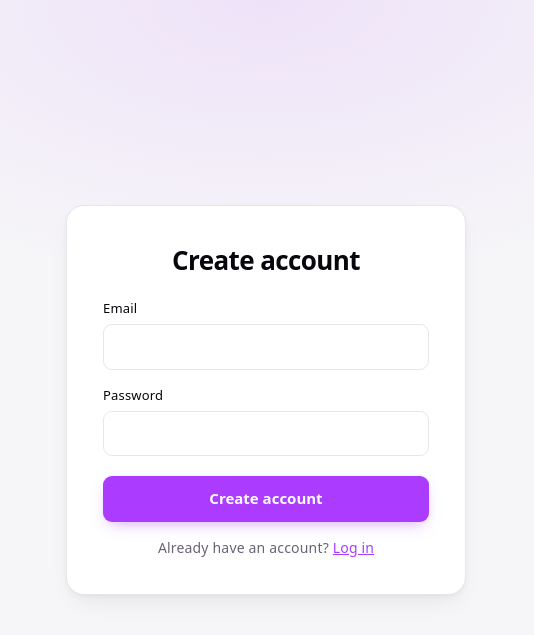
Test: Register › shows the server error and stays on the form
Type "new@user.io" into the field labelled "Email". click: x=266, y=347
box: [103,324,429,370]
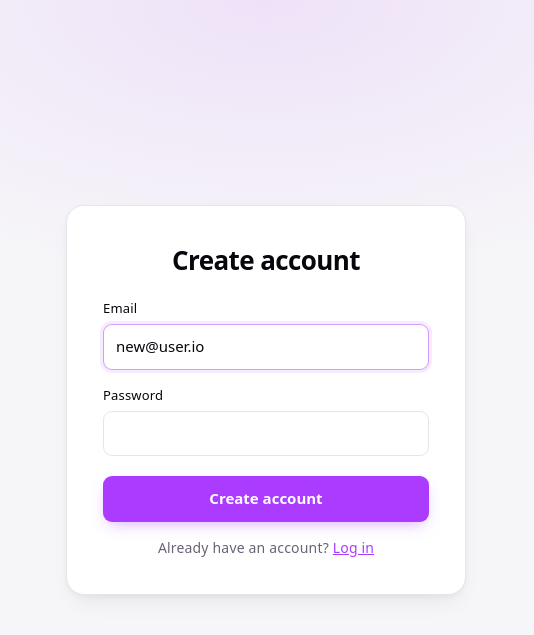
Type "longenough1" into the password field labelled "Password". click: x=266, y=434
box: [103,411,429,456]
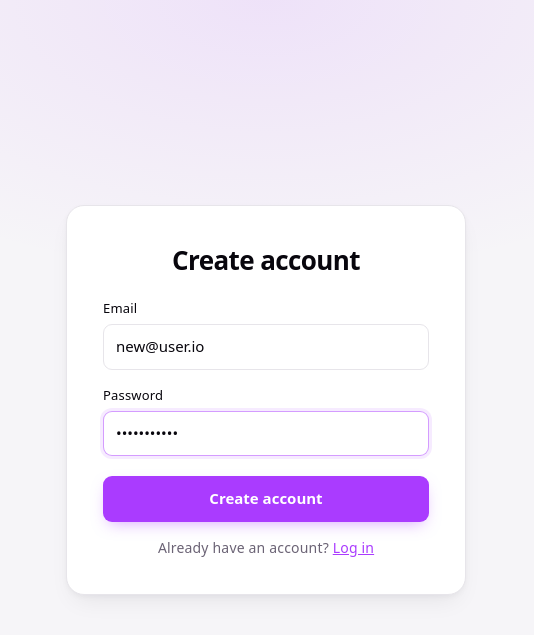
Click the button "Create account". click: x=266, y=499
box: [103,476,429,522]
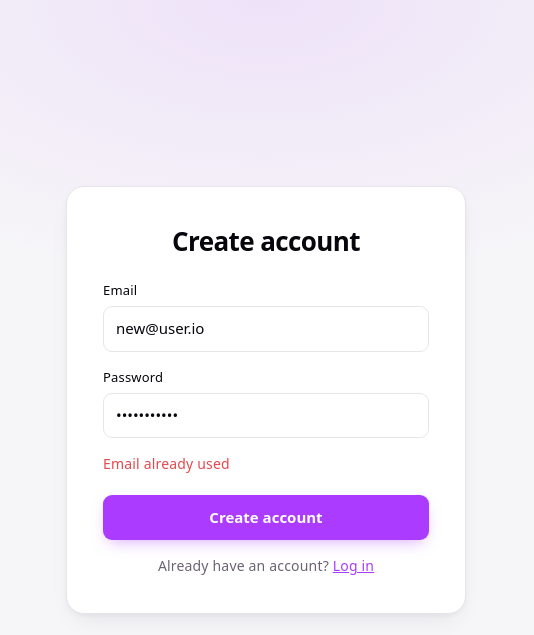
Expected: the heading "Create account" is shown, [172,223,360,259]
Expected: the text "Email already used" is shown, [103,454,230,473]
